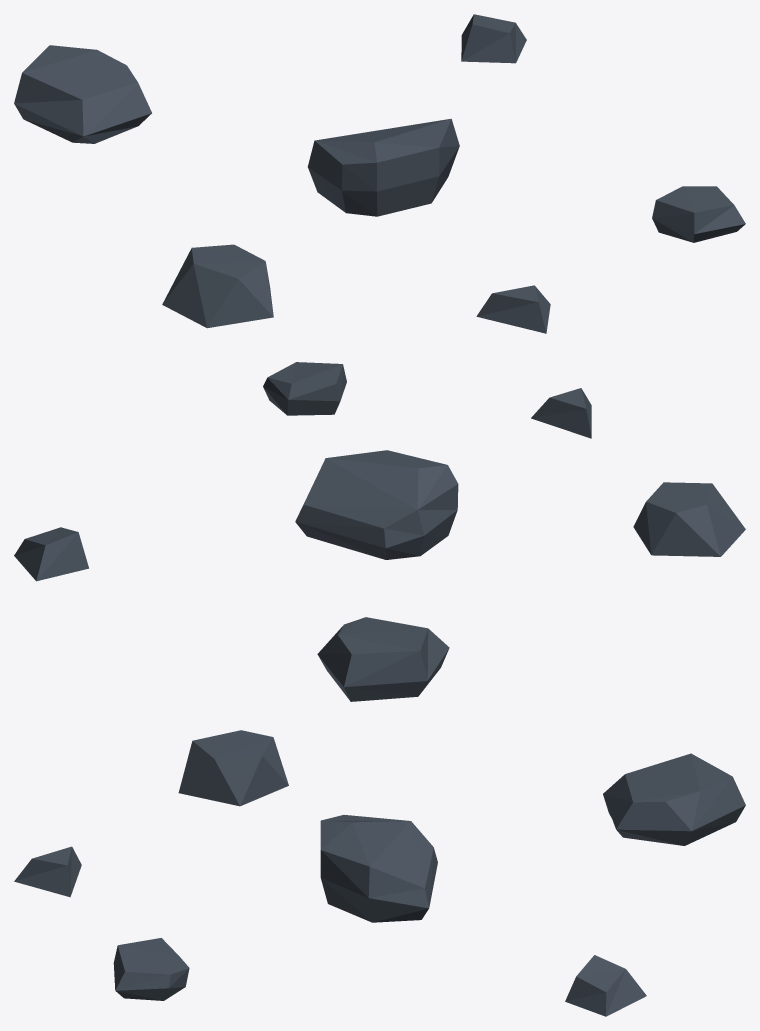
The model's file is TB_Env_Stone_Set3_B.FBX.
The picture shows the model from 3 angles, top to bottom: view 1: azimuth 30°, elevation 25°; view 2: azimuth 150°, elevation 25°; view 3: azimuth 270°, elevation 25°; orthographic projection. The views are drawn at different scales.
Visible parts, largest first — view 1: TB_Env_Stone_Set3_B; view 2: TB_Env_Stone_Set3_B; view 3: TB_Env_Stone_Set3_B.
Part boxes in pixels (bbox=[...]): TB_Env_Stone_Set3_B: bbox=[14, 14, 745, 333]; TB_Env_Stone_Set3_B: bbox=[14, 362, 745, 701]; TB_Env_Stone_Set3_B: bbox=[14, 730, 745, 1016].
Bounding box in the file's own units: 2.75 × 0.3027 × 3.3.
